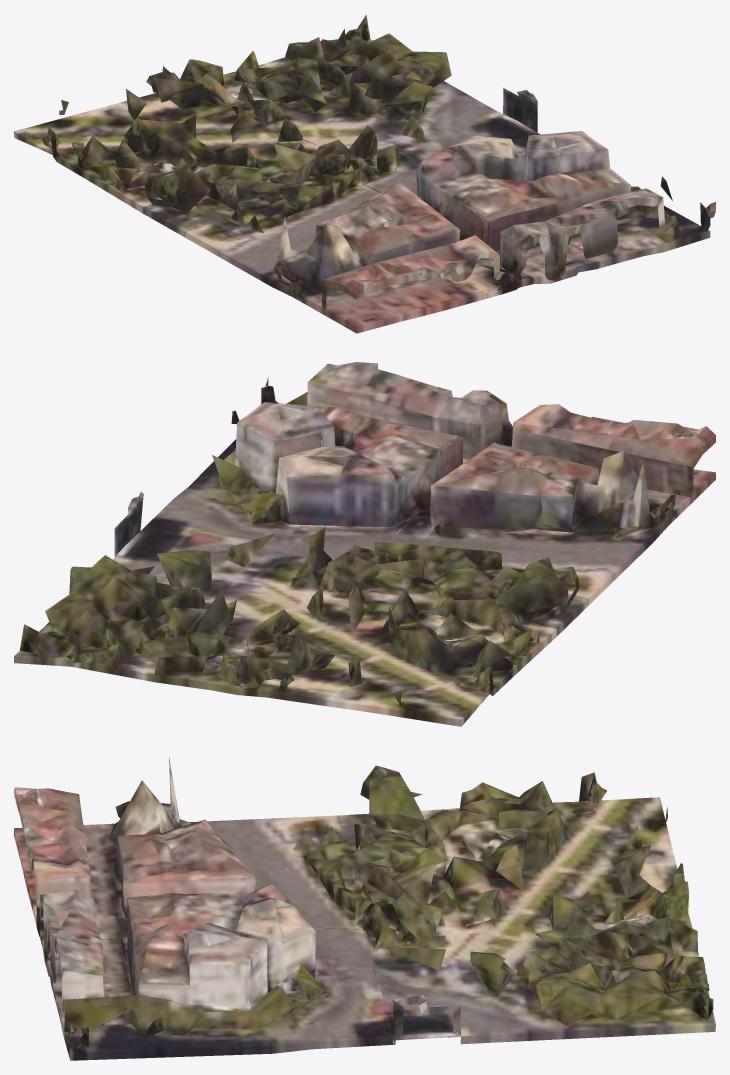
The picture shows the model from 3 angles, top to bottom: view 1: azimuth 30°, elevation 25°; view 2: azimuth 150°, elevation 25°; view 3: azimuth 270°, elevation 25°; orthographic projection. The views are drawn at different scales.
Visible parts, largest first — view 1: Mesh_0; view 2: Mesh_0; view 3: Mesh_0.
Part boxes in pixels (bbox=[...]): Mesh_0: bbox=[14, 15, 715, 333]; Mesh_0: bbox=[14, 362, 715, 726]; Mesh_0: bbox=[14, 757, 715, 1060].
Size of the model in its own units: 270 by 50.74 by 330.
Materials: 2 (2 with a texture image).
